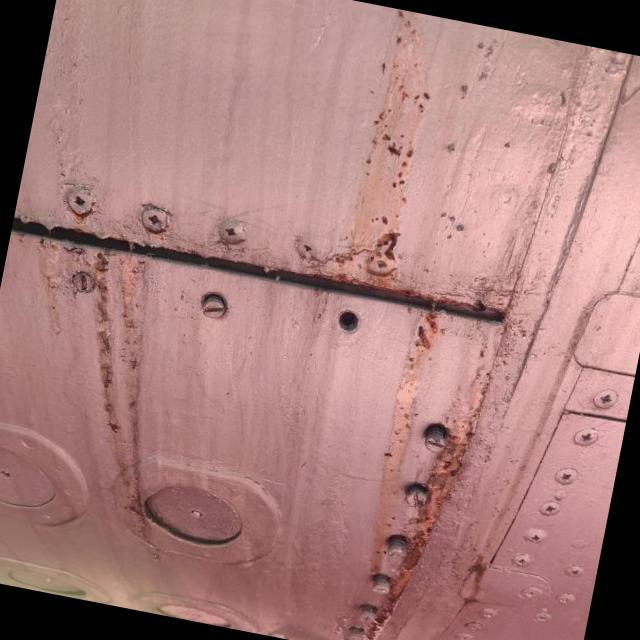Fastener Damage: (316, 293, 375, 351)
